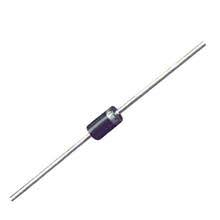diode: (66, 72, 145, 171)
